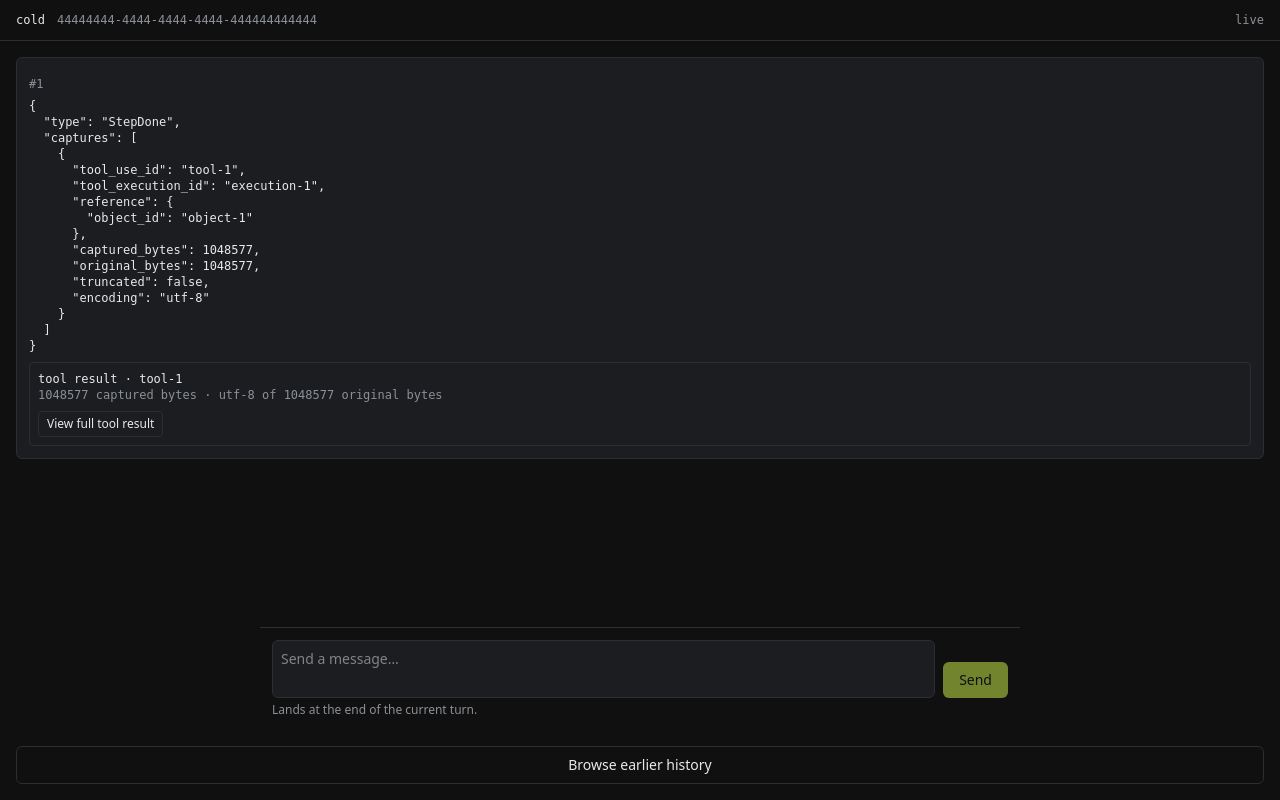
Test case: a capture above the viewer's own ceiling is refused before any object request
Click the button with test id "tool-capture-load". click: (101, 424)
box: x1=38 y1=411 x2=163 y2=437
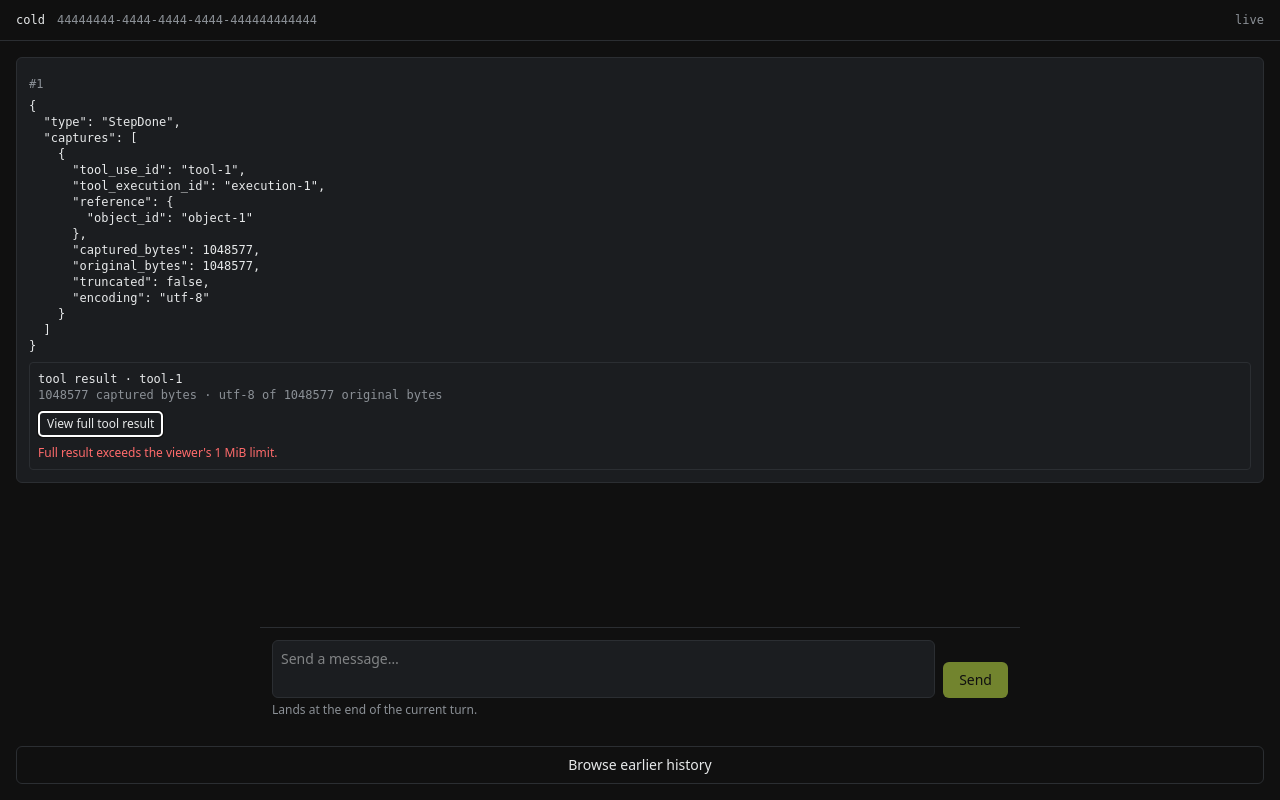
Expected: the message with test id "tool-capture-error" reads "Full result exceeds the viewer's 1 MiB limit.", x1=38 y1=444 x2=278 y2=461
